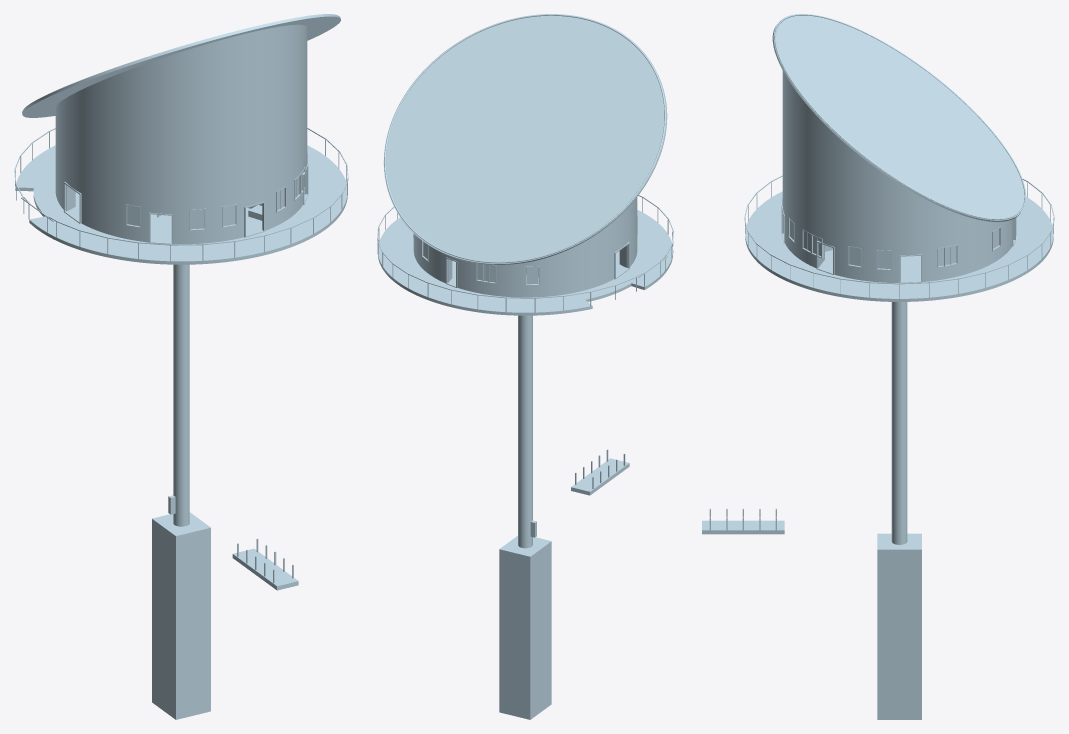
The model's file is tower_crown_7.glb.
3 renders of one model, left to right at view 1: azimuth 30°, elevation 25°; view 2: azimuth 150°, elevation 25°; view 3: azimuth 270°, elevation 25°, orthographic. The views are drawn at different scales.
Visible parts, largest first — view 1: Roof infill, Slab 6, Pod container, Facade 6, Hatch column, Solar disc, Bridge deck; view 2: Solar disc, Pod container, Slab 6, Facade 6, Hatch column, Solar rim, Roof infill, Bridge deck; view 3: Solar disc, Roof infill, Slab 6, Pod container, Facade 6, Hatch column, Solar rim, Bridge deck.
Boxes of the visible parts, x1,y1,x2,y2 form: Roof infill: (55,24,307,201); Slab 6: (15,145,347,264); Pod container: (152,512,210,719); Facade 6: (55,151,307,244); Hatch column: (173,264,189,526); Solar disc: (22,14,340,117); Bridge deck: (232,548,298,590); Solar disc: (383,14,667,264); Pod container: (499,535,551,719); Slab 6: (378,210,673,315); Facade 6: (413,214,637,297); Hatch column: (518,315,532,548); Solar rim: (384,14,665,263); Roof infill: (545,197,637,258); Bridge deck: (571,458,629,495); Solar disc: (772,14,1026,221); Roof infill: (782,71,994,243); Slab 6: (745,191,1053,301); Pod container: (877,533,921,719); Facade 6: (782,195,1016,282); Hatch column: (891,302,907,544); Solar rim: (774,14,1025,219); Bridge deck: (702,520,784,534).
Bounding box in the file's own units: 20.1 × 48.3 × 22.87.
